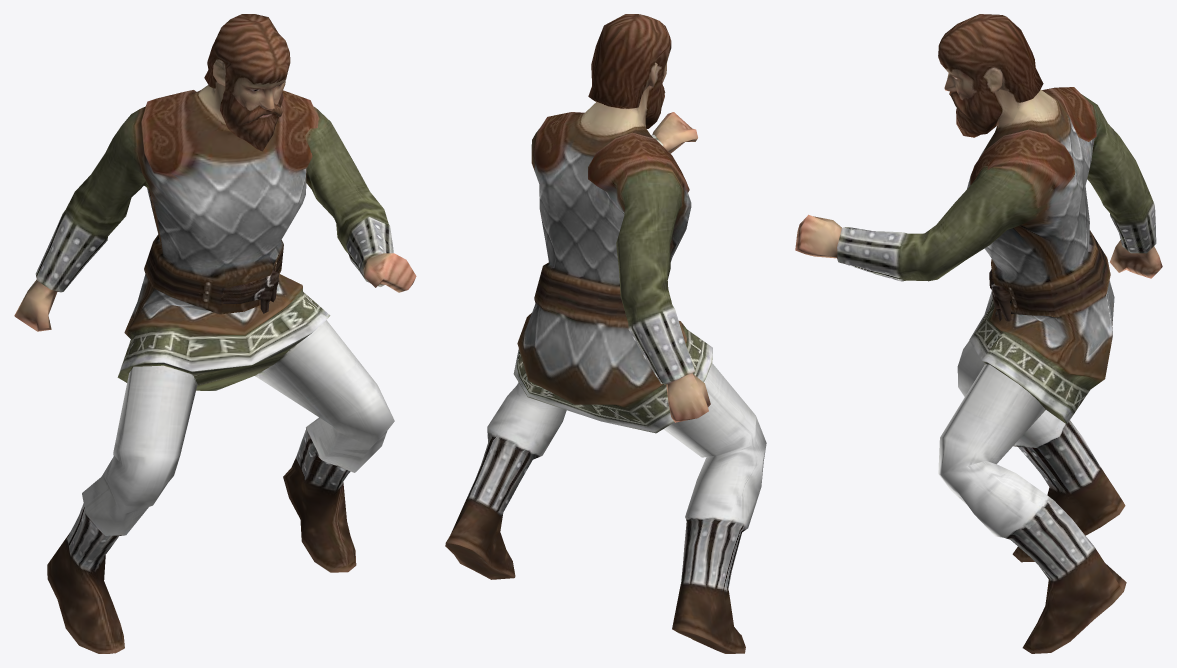
File: rider-slice-heavycavalry.glb
The picture shows the model from 3 angles, left to right: view 1: azimuth 30°, elevation 25°; view 2: azimuth 150°, elevation 25°; view 3: azimuth 270°, elevation 25°; orthographic projection. The views are drawn at different scales.
Bounding box in the file's own units: 0.9689 × 1.92 × 1.07.
1 material, 1 textured.
